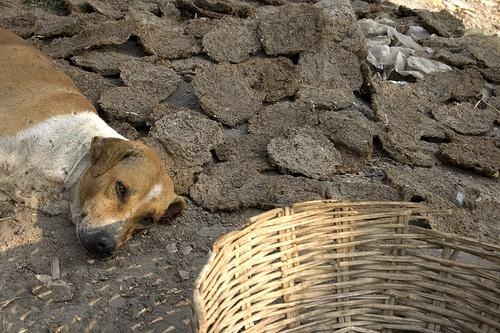dog: (1, 26, 186, 260)
